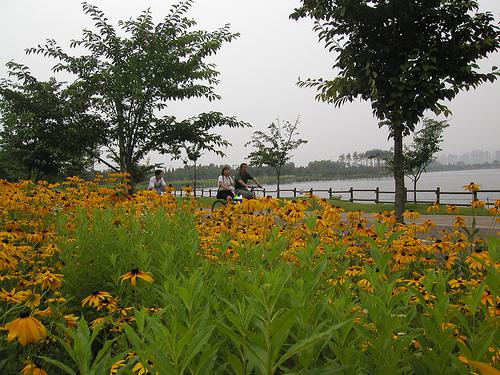car: (211, 185, 266, 213)
person: (233, 162, 264, 200), (217, 166, 236, 202), (149, 170, 170, 195)
